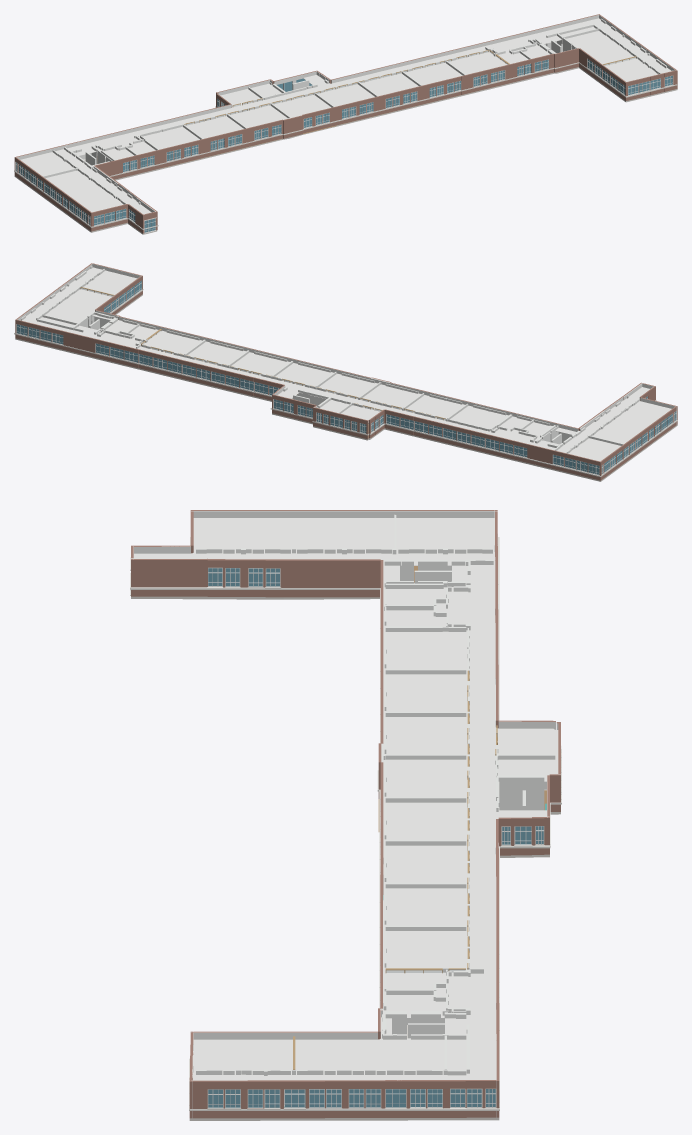
The model's file is main_2F.glb.
The picture shows the model from 3 angles, top to bottom: view 1: azimuth 30°, elevation 25°; view 2: azimuth 150°, elevation 25°; view 3: azimuth 270°, elevation 25°; orthographic projection. The views are drawn at different scales.
Parts seen in each view (by area): view 1: main_2F__ceil, main_2F__brick, main_2F__wallIn, main_2F__glass, main_2F__frameW, main_2F__white, main_2F__corrFloor, main_2F__woodFrame, main_2F__glassIn, main_2F__rail; view 2: main_2F__ceil, main_2F__brick, main_2F__wallIn, main_2F__glass, main_2F__frameW, main_2F__white, main_2F__corrFloor, main_2F__rail, main_2F__woodFrame, main_2F__glassIn; view 3: main_2F__ceil, main_2F__wallIn, main_2F__brick, main_2F__glass, main_2F__frameW, main_2F__white, main_2F__corrFloor, main_2F__woodFrame.
Part boxes in pixels (x1,y1,x2,y2): main_2F__ceil: [20, 18, 671, 214]; main_2F__brick: [14, 14, 677, 233]; main_2F__wallIn: [15, 15, 676, 214]; main_2F__glass: [16, 59, 672, 232]; main_2F__frameW: [15, 58, 673, 232]; main_2F__white: [14, 62, 677, 233]; main_2F__corrFloor: [14, 67, 677, 234]; main_2F__woodFrame: [184, 50, 636, 125]; main_2F__glassIn: [185, 51, 635, 125]; main_2F__rail: [15, 65, 672, 230]; main_2F__ceil: [22, 267, 671, 461]; main_2F__brick: [15, 263, 677, 480]; main_2F__wallIn: [16, 263, 676, 461]; main_2F__glass: [17, 281, 676, 474]; main_2F__frameW: [16, 280, 676, 475]; main_2F__white: [14, 289, 677, 476]; main_2F__corrFloor: [15, 294, 677, 481]; main_2F__rail: [17, 288, 676, 473]; main_2F__woodFrame: [80, 287, 445, 420]; main_2F__glassIn: [81, 288, 445, 420]; main_2F__ceil: [134, 518, 558, 1080]; main_2F__wallIn: [131, 510, 560, 1117]; main_2F__brick: [131, 510, 560, 1118]; main_2F__glass: [208, 568, 543, 1107]; main_2F__frameW: [207, 567, 544, 1108]; main_2F__white: [130, 537, 561, 1110]; main_2F__corrFloor: [131, 582, 560, 1120]; main_2F__woodFrame: [293, 670, 497, 1069].
Bounding box in the file's own units: 121 × 3.85 × 38.42.
